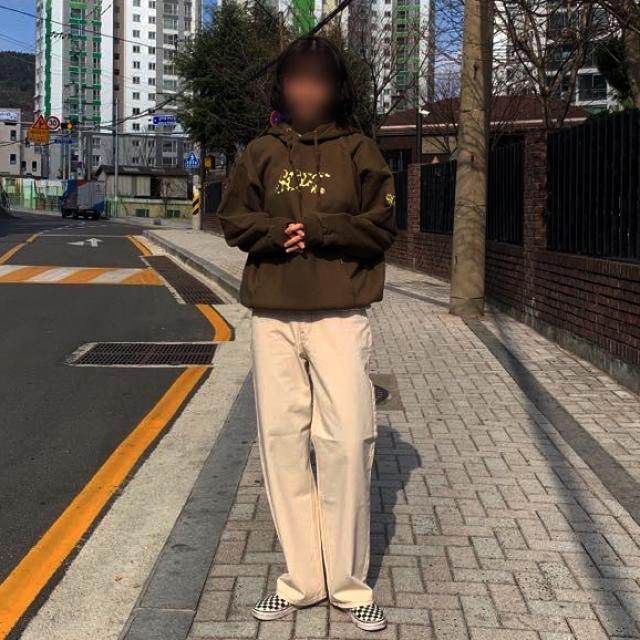cottonpants: (256, 304, 378, 606)
hoodies: (224, 124, 404, 316)
